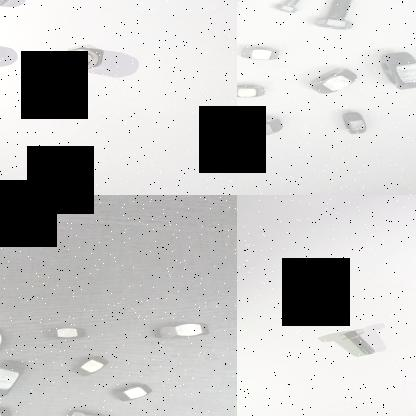Bolts: (312, 0, 365, 35), (336, 324, 376, 356), (272, 0, 324, 16)
NUTS: (308, 64, 364, 96), (377, 47, 416, 91), (237, 107, 285, 142), (0, 357, 34, 399), (334, 102, 375, 134), (56, 44, 106, 70), (110, 377, 158, 403), (237, 39, 287, 63), (150, 321, 209, 341), (70, 354, 110, 378), (237, 77, 279, 99), (66, 402, 121, 416), (45, 322, 87, 340), (0, 325, 11, 350), (0, 404, 15, 416)
